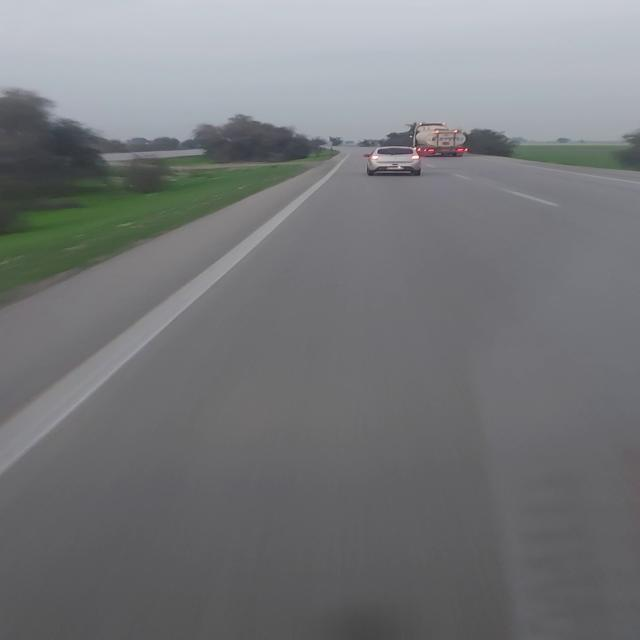Car: (356, 143, 426, 181)
Truck: (407, 119, 480, 160)
